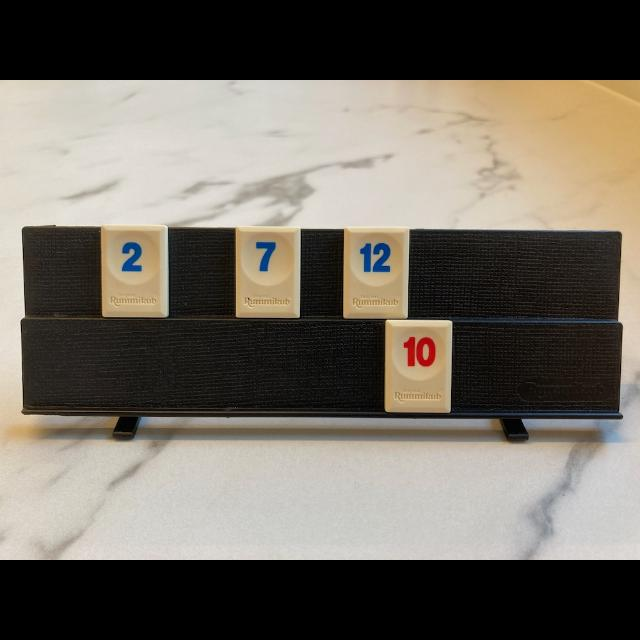blue_12: (344, 228, 409, 319)
blue_2: (102, 225, 169, 318)
blue_7: (236, 226, 300, 318)
red_10: (385, 320, 452, 412)
